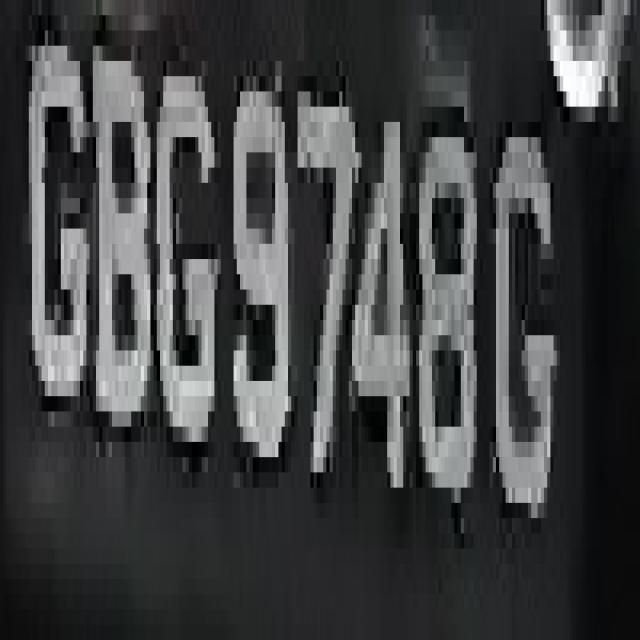4: (352, 61, 410, 518)
7: (291, 46, 355, 533)
8: (413, 91, 486, 534)
9: (228, 46, 294, 533)
B: (90, 15, 154, 442)
G: (486, 76, 557, 534), (154, 46, 224, 457), (29, 0, 93, 396)
